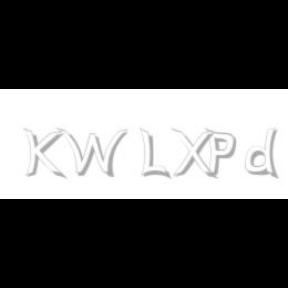K: (23, 128, 63, 180)
L: (140, 128, 168, 180)
P: (204, 128, 236, 178)
W: (56, 128, 128, 178)
X: (171, 128, 215, 180)
d: (246, 128, 282, 180)
